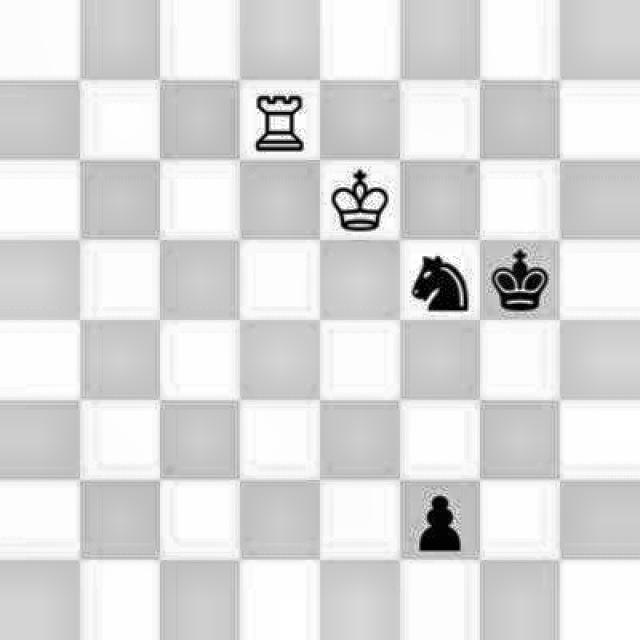Black Knight: (408, 250, 473, 316)
black king: (476, 245, 554, 319)
black pawn: (398, 486, 470, 558)
white king: (323, 170, 389, 240)
white rook: (250, 91, 306, 155)
